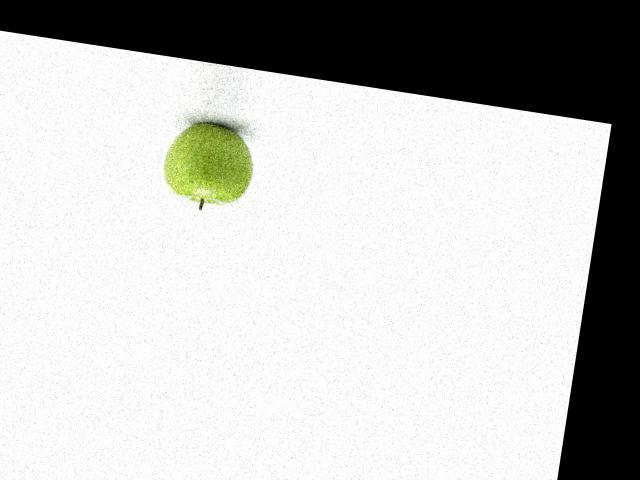apple: (155, 114, 264, 217)
